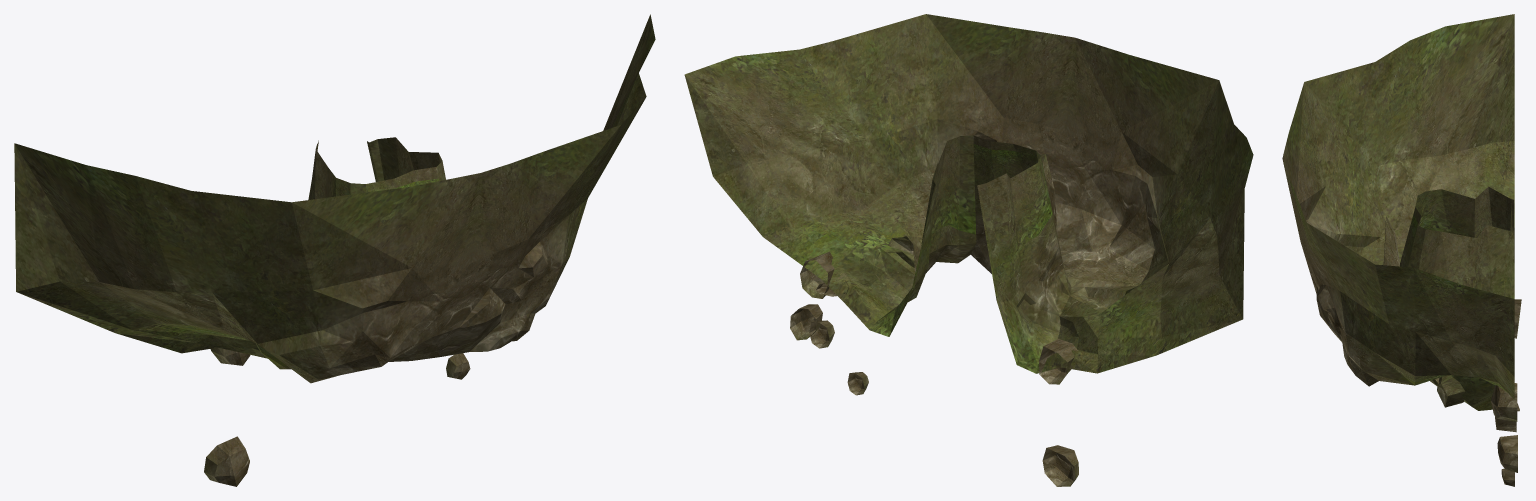
Rendered from juqing_fuben_395_dongkou.obj.
3 views of the same model, side by side, from view 1: azimuth 30°, elevation 25°; view 2: azimuth 150°, elevation 25°; view 3: azimuth 270°, elevation 25° (orthographic). The views are drawn at different scales.
Visible parts, largest first — view 1: huangjinguo_dongxue_38_dongkou_01; view 2: huangjinguo_dongxue_38_dongkou_01; view 3: huangjinguo_dongxue_38_dongkou_01.
Part boxes in pixels (x1=…): huangjinguo_dongxue_38_dongkou_01: x1=14, y1=14, x2=655, y2=486; huangjinguo_dongxue_38_dongkou_01: x1=684, y1=14, x2=1253, y2=486; huangjinguo_dongxue_38_dongkou_01: x1=1282, y1=14, x2=1521, y2=486.
Size of the model in its own units: 1021 by 599 by 392.
1 material, 1 textured.
